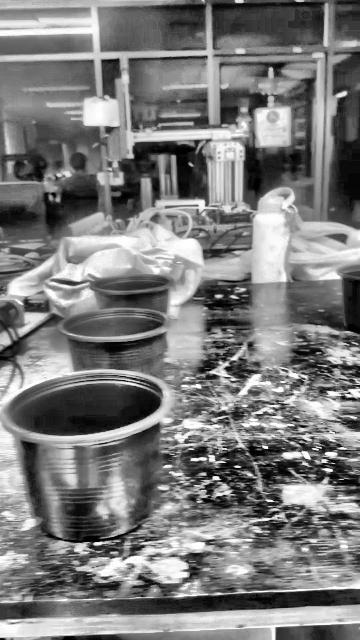pot: (1, 370, 166, 541), (58, 307, 169, 378), (92, 275, 172, 314), (338, 264, 359, 333)
